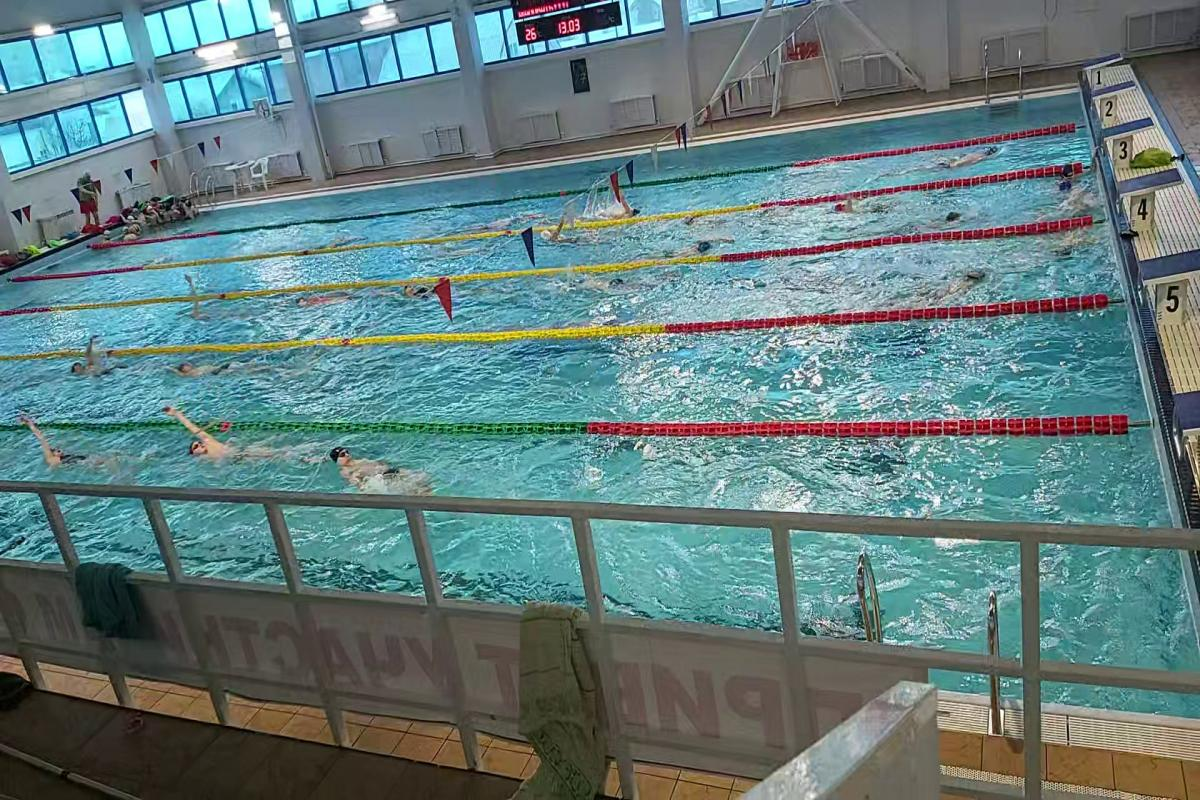swimmer: (160, 400, 294, 464), (16, 403, 138, 471), (308, 436, 441, 494), (165, 351, 266, 382), (65, 332, 126, 376), (648, 230, 742, 252), (178, 268, 213, 324), (901, 151, 1001, 170), (567, 273, 644, 297), (829, 191, 895, 218), (281, 291, 367, 310), (379, 278, 437, 304), (538, 216, 578, 250)
